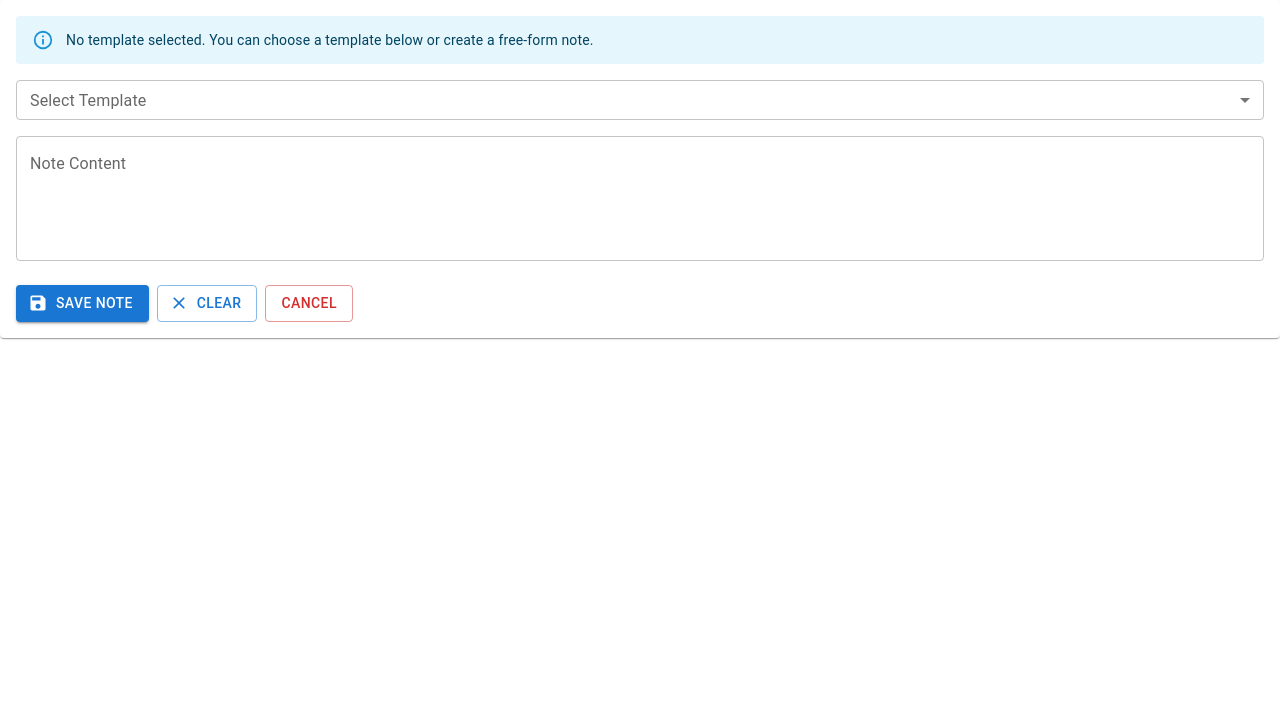
NoteEditor › shows confirmation dialog when cancelling with unsaved changes
The width and height of the screenshot is (1280, 720).
Type "changed" into the text box labelled "Note Content".
click(640, 198); type("changed")  # box [30,152,1250,244]
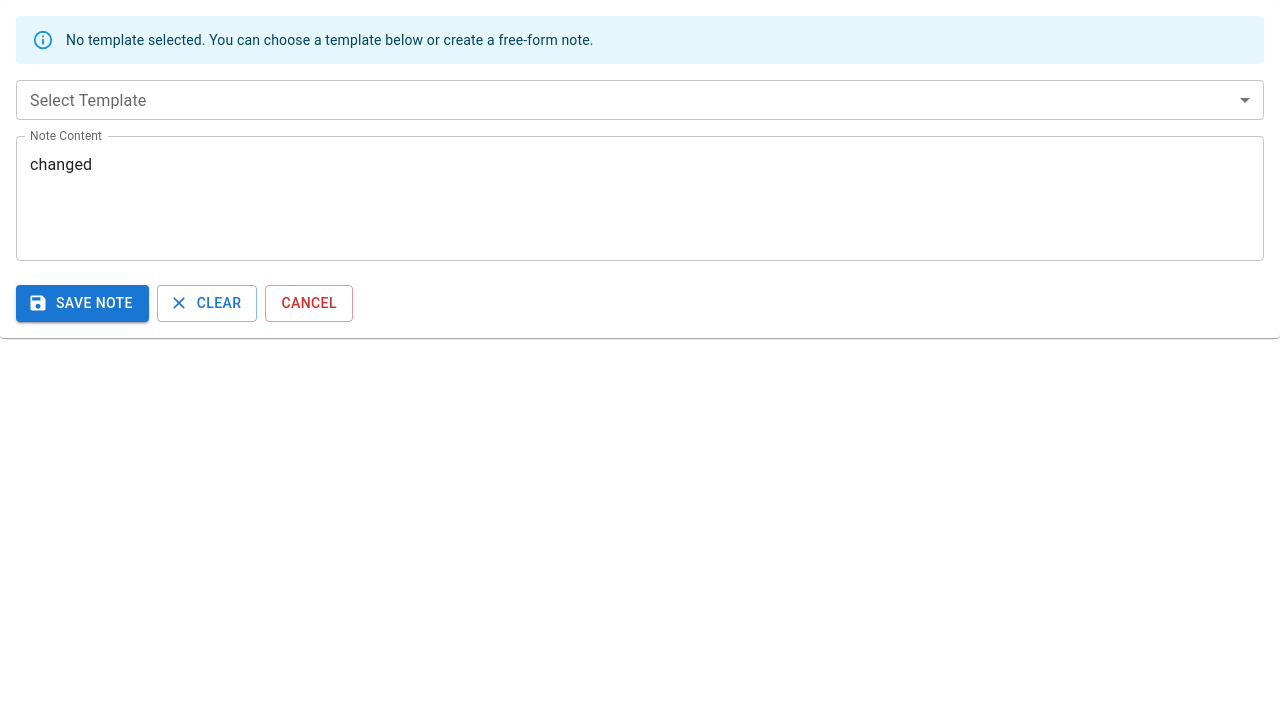
Click the button "Cancel".
click(309, 303)  # box [266,285,353,322]
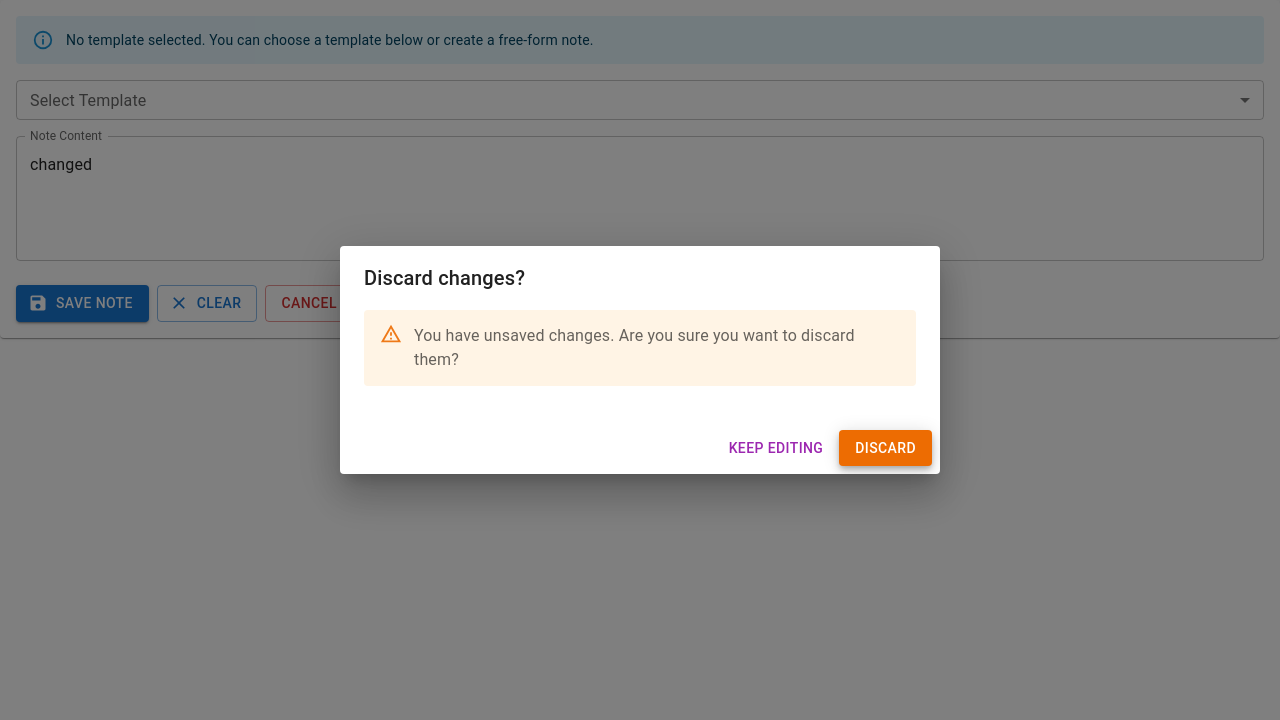
Expected: the heading "Discard changes?" is shown, [364,266,525,290]
